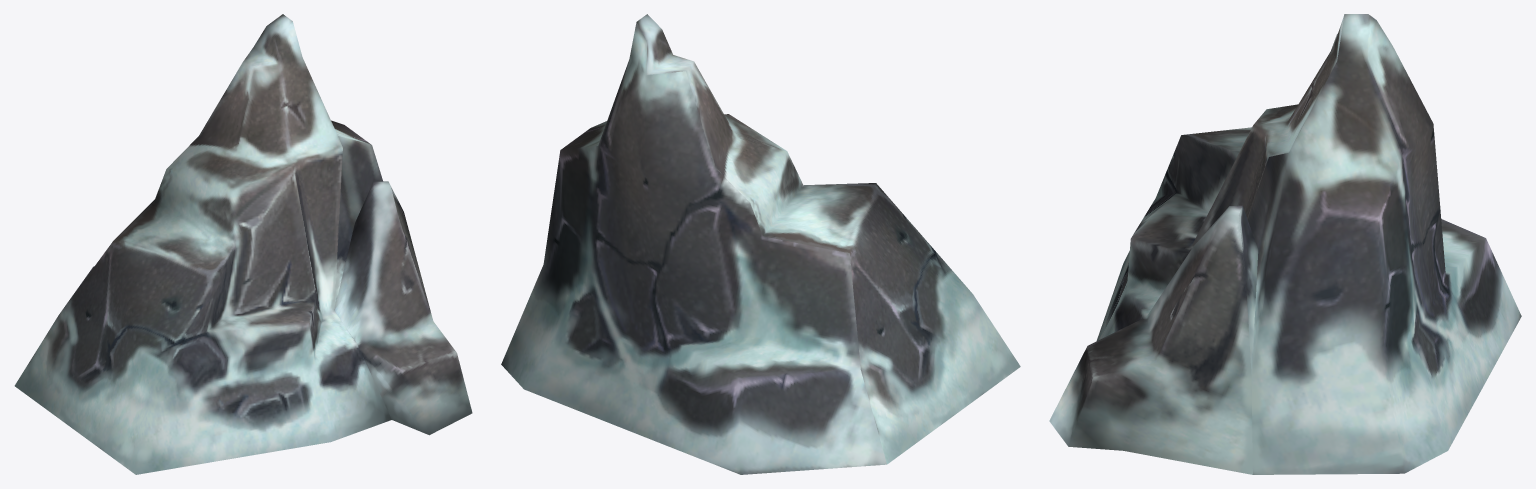
File: xs_shanshi2.FBX
3 renders of one model, left to right at view 1: azimuth 30°, elevation 25°; view 2: azimuth 150°, elevation 25°; view 3: azimuth 270°, elevation 25°, orthographic. The views are drawn at different scales.
Parts seen in each view (by area): view 1: Object05; view 2: Object05; view 3: Object05.
Boxes of the visible parts, x1=… form: Object05: x1=14, y1=14, x2=472, y2=474; Object05: x1=501, y1=14, x2=1020, y2=474; Object05: x1=1049, y1=14, x2=1521, y2=474.
Bounding box in the file's own units: 169 × 149 × 160.
